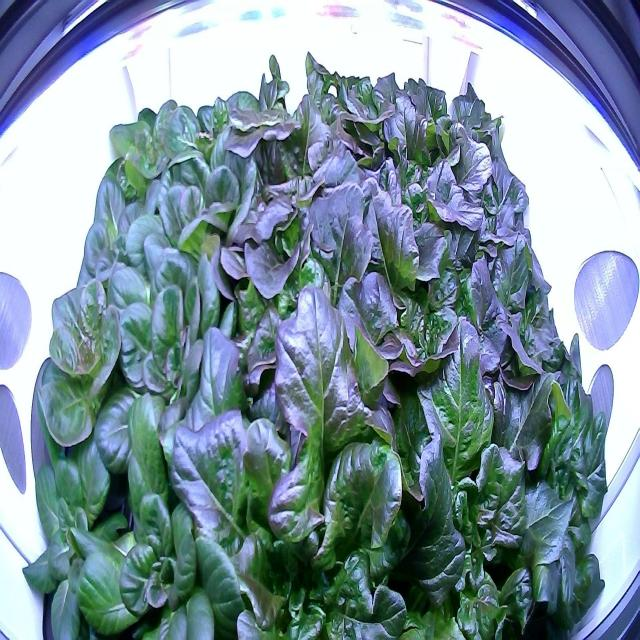Ready: (74, 357, 252, 639), (96, 232, 274, 512), (13, 228, 149, 480), (148, 132, 268, 314), (58, 161, 169, 309), (155, 81, 255, 228), (83, 79, 186, 218)
young: (6, 380, 154, 640)
